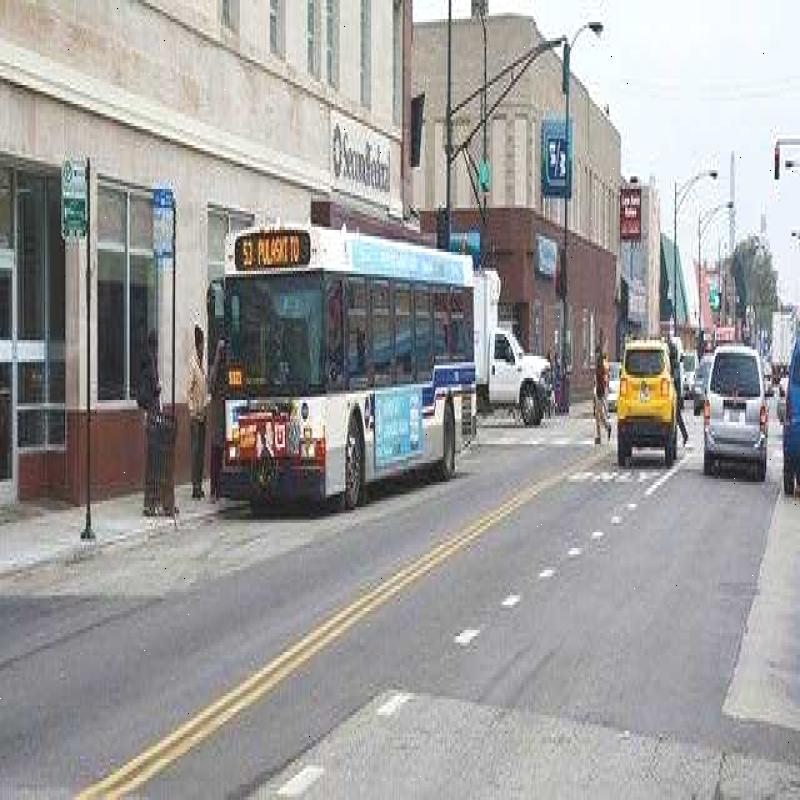bus: (210, 186, 489, 538)
